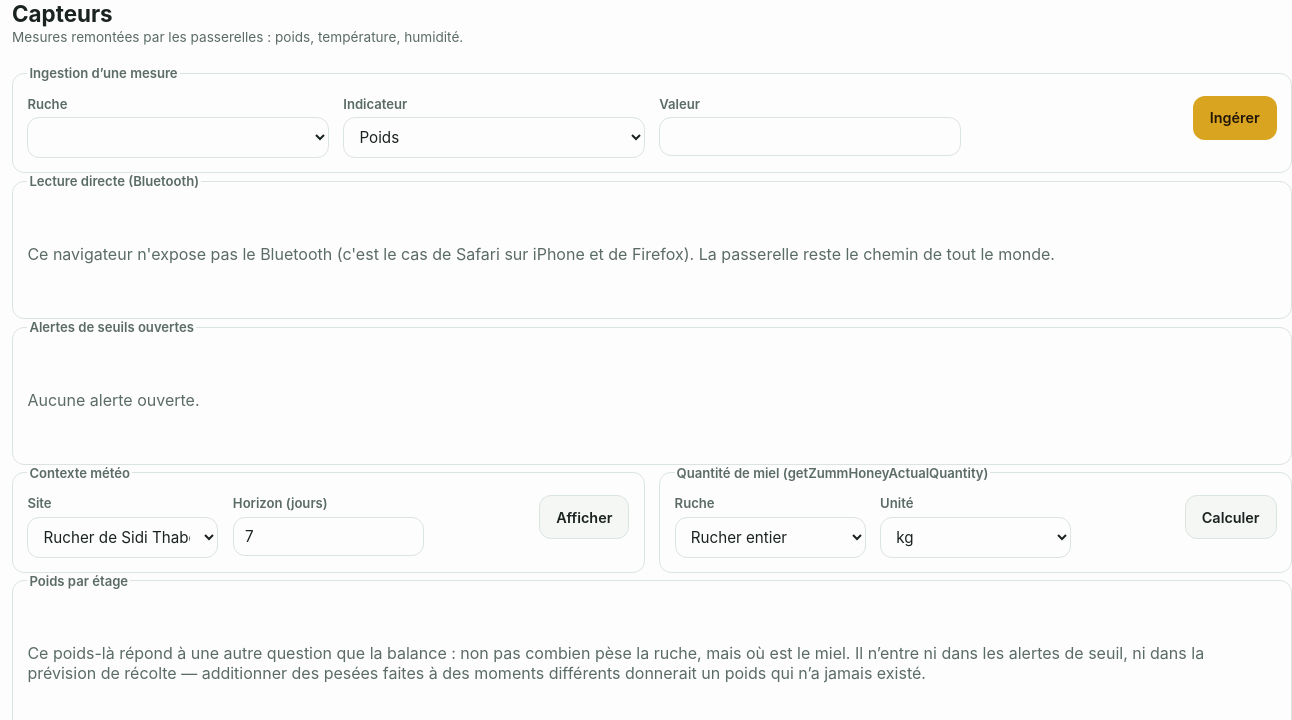
Test: vue Capteurs — prévisions météo › transmet l'horizon saisi au serveur et rend une ligne par jour
Replace the text in the number field labelled "Horizon (jours)" with "2" at (328, 536), box [233, 517, 424, 556]
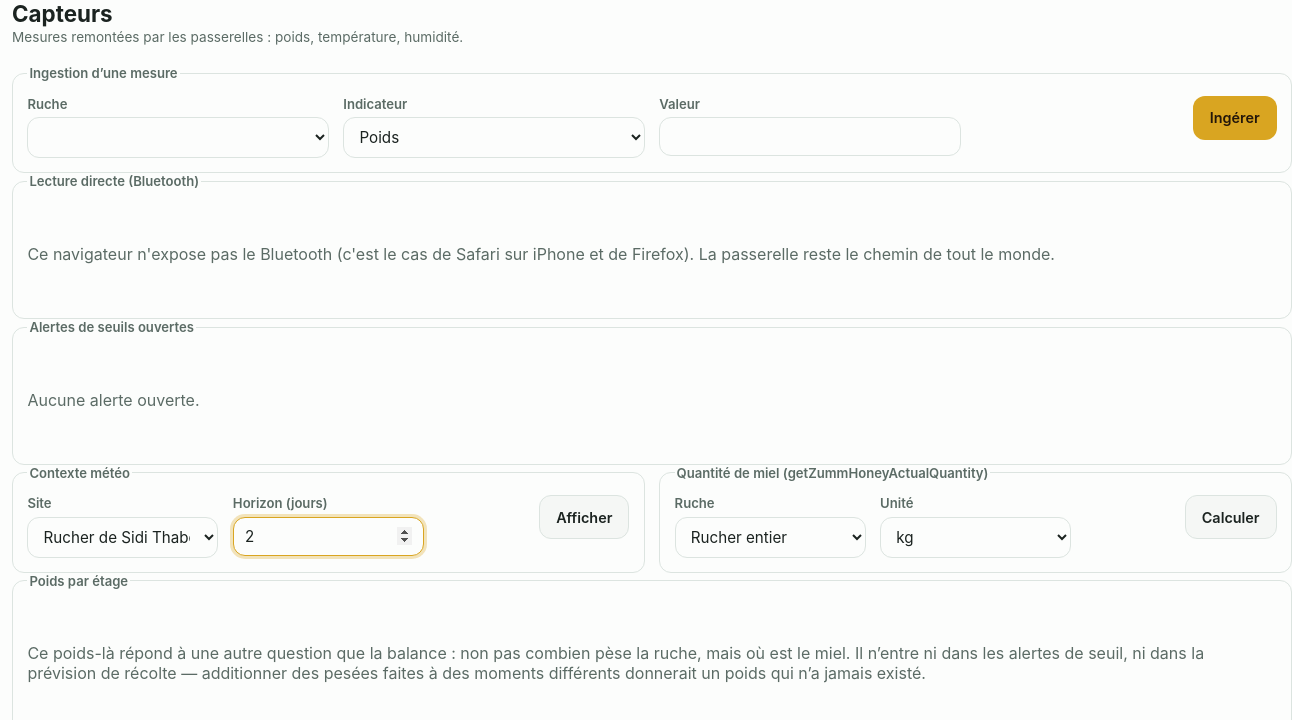
Click the button "Afficher" at (584, 517), box [539, 495, 630, 539]
(page scrolled)
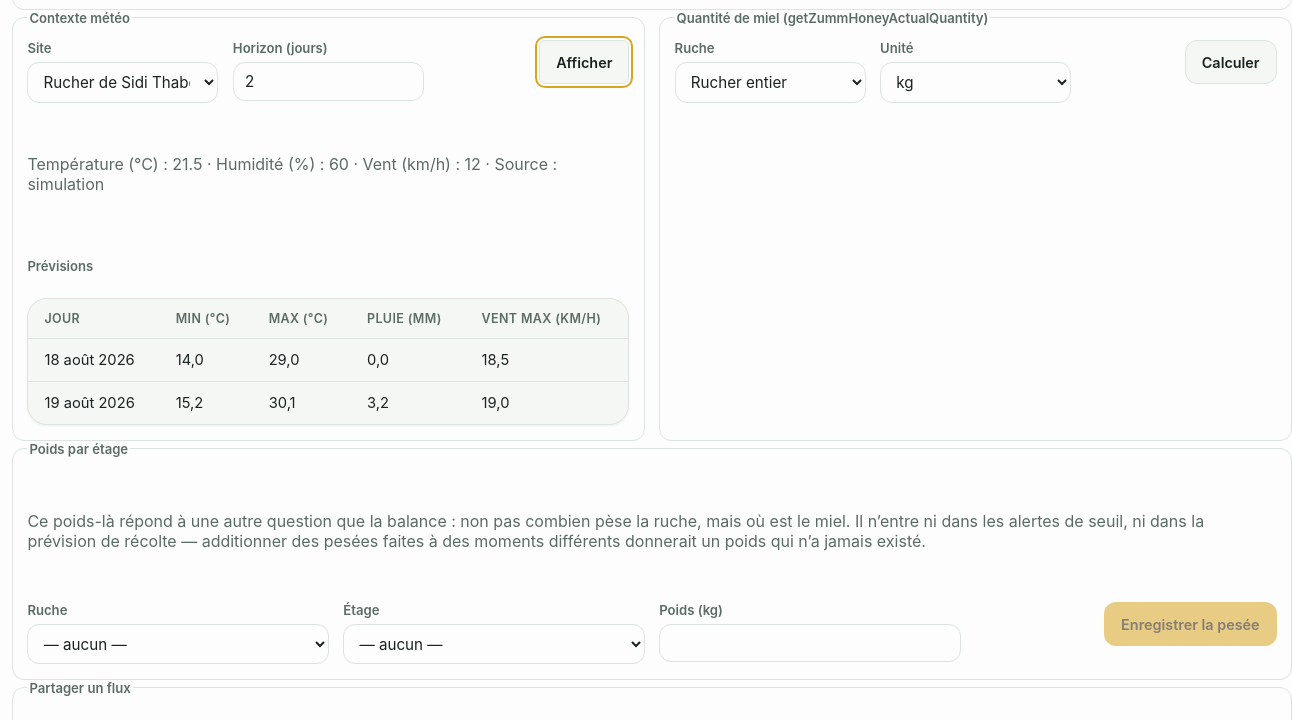
Check: the text "Prévisions" is shown, box [27, 258, 93, 274]
Check: the number of rows is 3, box [28, 299, 628, 339]; [28, 339, 628, 382]; [28, 382, 628, 424]
Check: the text "18,5" is shown, box [466, 339, 628, 382]
